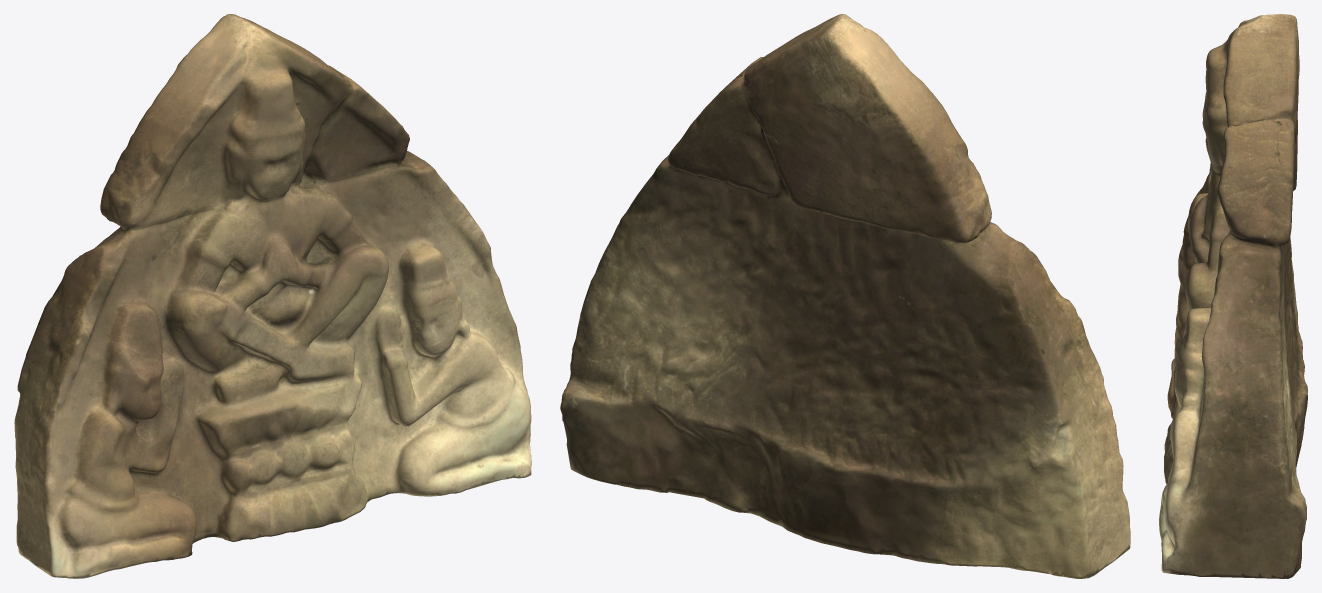
Rendered from MysonMuseum_warehousephudieu2_final.glb.
3 renders of one model, left to right at view 1: azimuth 30°, elevation 25°; view 2: azimuth 150°, elevation 25°; view 3: azimuth 270°, elevation 25°, orthographic. The views are drawn at different scales.
Size of the model in its own units: 0.7033 by 0.679 by 0.1991.
1 material, 1 textured.
